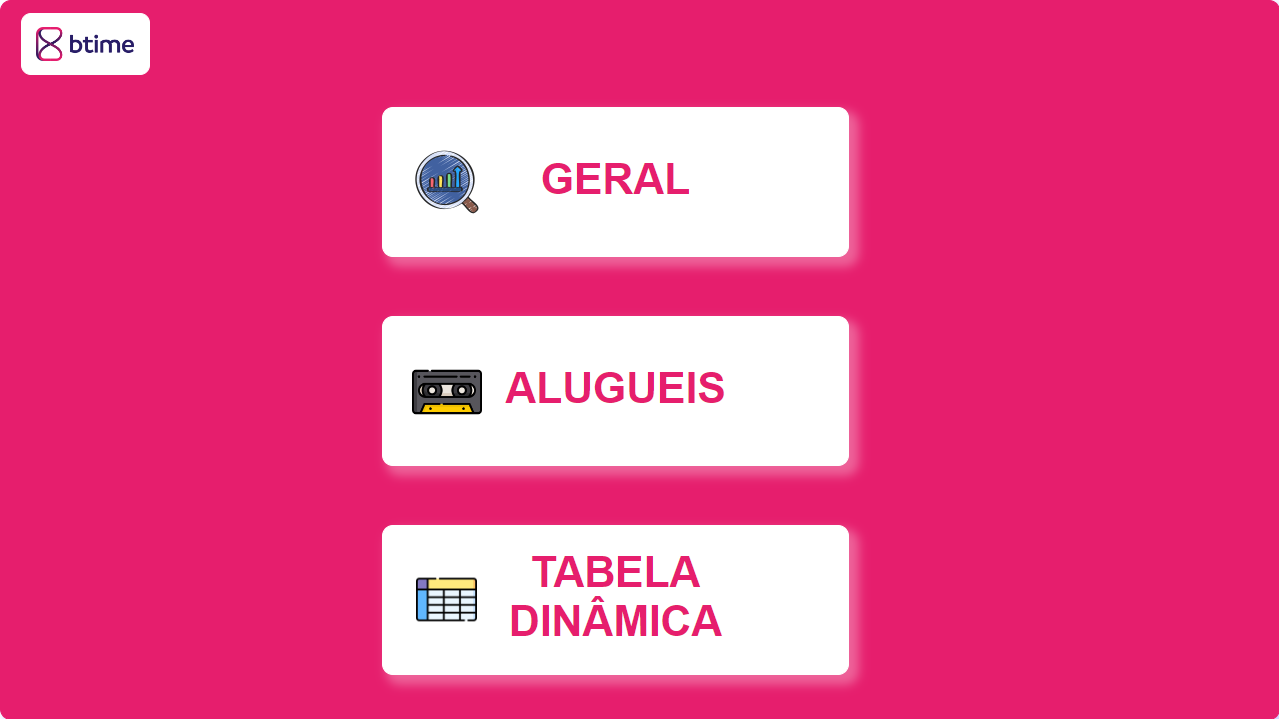

The page's visual inventory and layout, read from the dashboard file:
{"tool":"powerbi","page":{"name":"Menu","canvas":[1280,720],"ordinal":0},"visuals":[{"type":"shape","box":[0,0,1280,720],"z":0},{"type":"shape","box":[382,316,467,150],"z":0,"group":"g3"},{"type":"shape","box":[382,525,467,150],"z":0,"group":"g2"},{"type":"group","id":"g1","title":"Grupo 2","box":[21,13,129,62],"z":1000},{"type":"textbox","box":[495,359,242,63],"z":1000,"group":"g3"},{"type":"textbox","box":[495,543,242,114],"z":1000,"group":"g2"},{"type":"shape","box":[382,107,467,150],"z":2000,"group":"g4"},{"type":"image","box":[407,351.5,80,80],"z":2000,"group":"g3"},{"type":"group","id":"g2","title":"Grupo 1","box":[382,525,467,150],"z":2000},{"type":"image","box":[410,564,74,71],"z":2000,"group":"g2"},{"type":"group","id":"g3","title":"Grupo 3","box":[382,316,467,150],"z":3000},{"type":"group","id":"g4","title":"Grupo 4","box":[382,107,467,150],"z":4000},{"type":"textbox","box":[527,150,178,63],"z":5000,"group":"g4"},{"type":"image","box":[410,145,74,74],"z":6003,"group":"g4"},{"type":"shape","box":[21,13,129,62],"z":9000,"group":"g1"},{"type":"image","box":[29,22,113,44],"z":10000,"group":"g1"}]}

Visuals, with their boxes in screenshot pixels (x1, y1, x2, y2), scaled from the page's 1280x720 canvas onto the 1279x719 screenshot:
shape: <region>0, 0, 1278, 718</region>
shape: <region>382, 316, 848, 465</region>
shape: <region>382, 524, 848, 674</region>
"Grupo 2" group: <region>21, 13, 150, 75</region>
textbox: <region>495, 359, 736, 421</region>
textbox: <region>495, 542, 736, 656</region>
shape: <region>382, 107, 848, 257</region>
image: <region>407, 351, 487, 431</region>
"Grupo 1" group: <region>382, 524, 848, 674</region>
image: <region>410, 563, 484, 634</region>
"Grupo 3" group: <region>382, 316, 848, 465</region>
"Grupo 4" group: <region>382, 107, 848, 257</region>
textbox: <region>527, 150, 704, 213</region>
image: <region>410, 145, 484, 219</region>
shape: <region>21, 13, 150, 75</region>
image: <region>29, 22, 142, 66</region>
